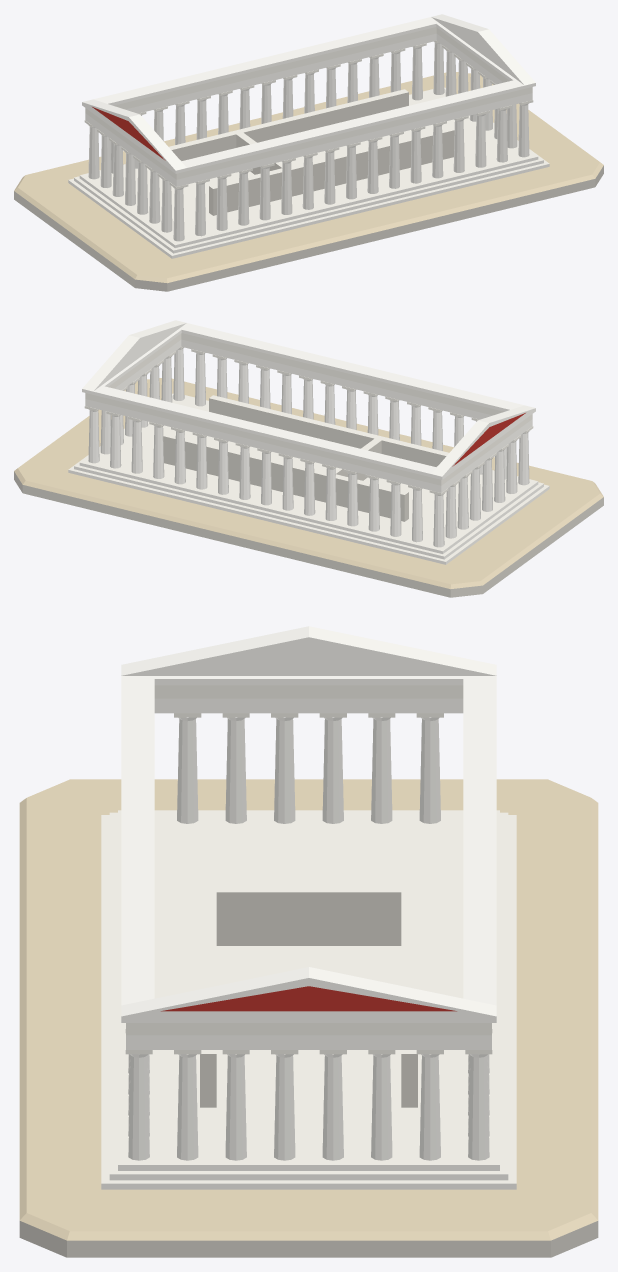
The model's file is athens.glb.
3 renders of one model, top to bottom at view 1: azimuth 30°, elevation 25°; view 2: azimuth 150°, elevation 25°; view 3: azimuth 270°, elevation 25°, orthographic. The views are drawn at different scales.
Visible parts, largest first — view 1: model; view 2: model; view 3: model.
Part boxes in pixels (x1,y1,x2,y2): model: (14, 14, 603, 291); model: (14, 320, 603, 597); model: (19, 626, 598, 1257).
Bounding box in the file's own units: 91.5 × 21.15 × 48.9.
